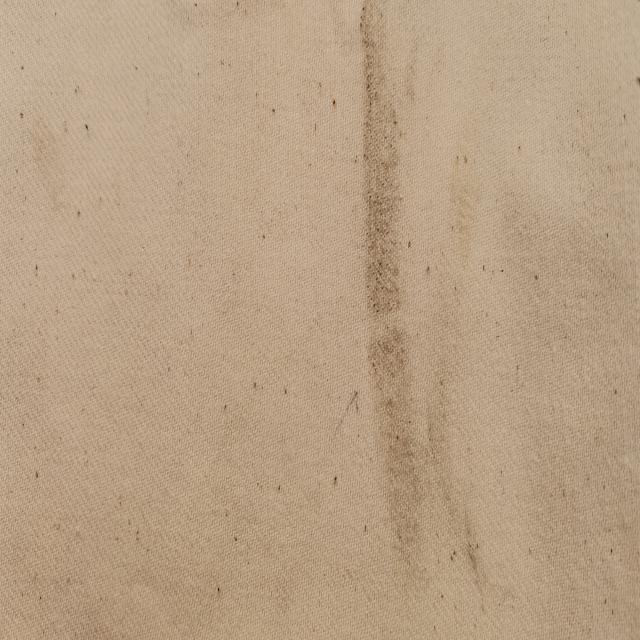taaaches: (329, 3, 439, 569), (454, 518, 496, 599)
